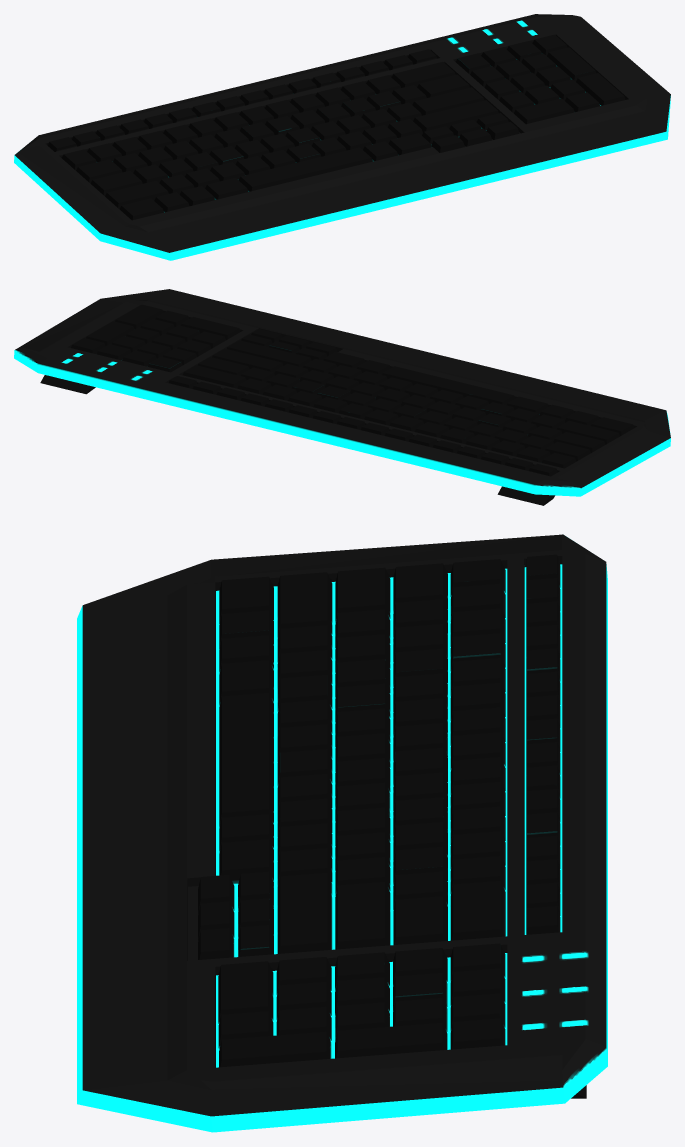
Rendered from Keyboard4.fbx.
3 views of the same model, one above another, from view 1: azimuth 30°, elevation 25°; view 2: azimuth 150°, elevation 25°; view 3: azimuth 270°, elevation 25° (orthographic). The views are drawn at different scales.
Visible parts, largest first — view 1: Keyboard4Baked; view 2: Keyboard4Baked; view 3: Keyboard4Baked.
Part boxes in pixels (x1,y1,x2,y2): Keyboard4Baked: (14,14,670,260); Keyboard4Baked: (14,289,670,505); Keyboard4Baked: (77,534,607,1132).
Size of the model in its own units: 337 by 17.84 by 136.
